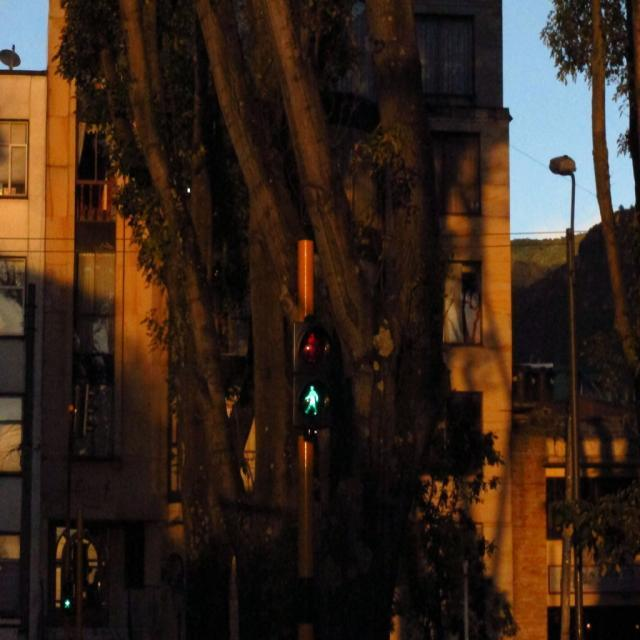traffic light: (293, 315, 330, 437), (83, 384, 99, 438)
